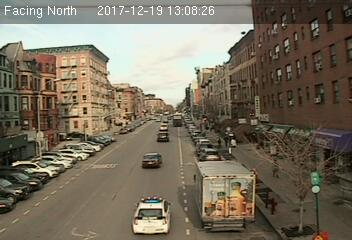car: (141, 153, 163, 169), (198, 147, 223, 161), (157, 130, 170, 141)
police: (132, 195, 174, 234)
truck: (193, 159, 253, 230)
